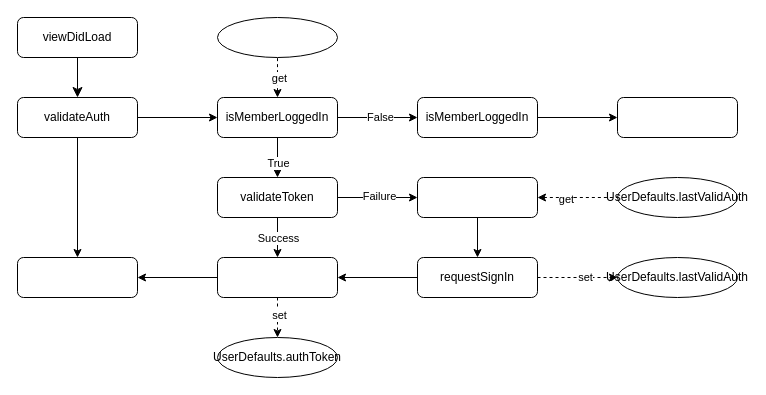
The diagram is 766 pixels wide and 395 high, and some of its shapes have lost their labels. Here are the shapes that lost their labels. From the top down, the centre of each, then its label:
At point 277,37: "UserDefaults.authResponse".
At point 677,117: "showOnboardFlow".
At point 477,197: "refreshToken".
At point 77,277: "syncWithServer".
